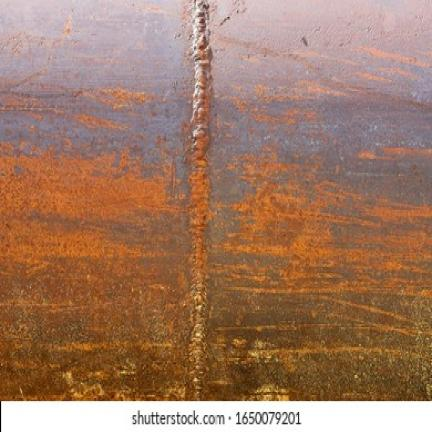karat: (0, 142, 193, 404), (235, 152, 431, 303)
